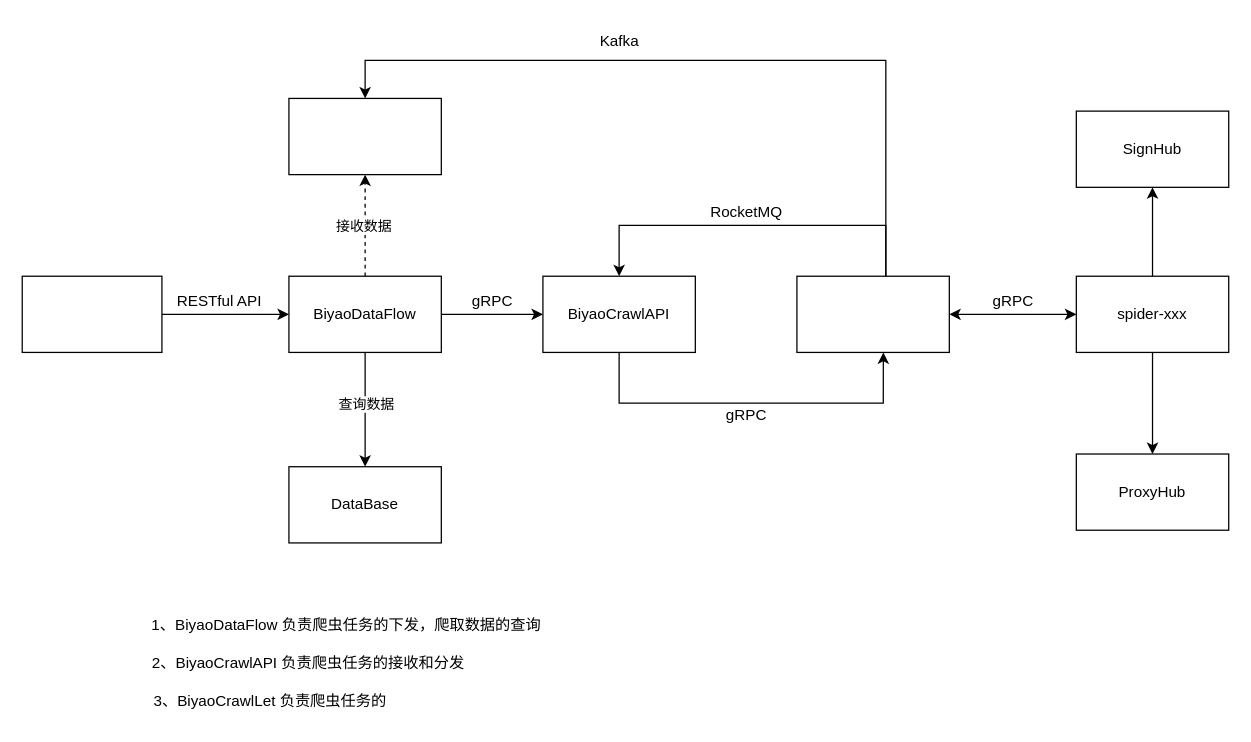
Image size: 1251x742. Some labels were removed from this diagram. The centre of each missing label's shape, as x and y in pixels:
"BiyaoCrawlLet" belongs at point 872,313.
"pipeline" belongs at point 364,136.
"WebPage" belongs at point 91,313.
